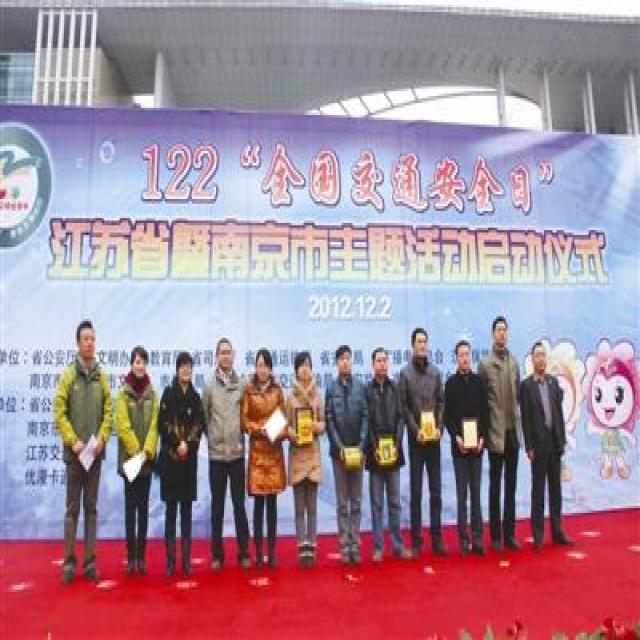non-fight: (58, 314, 109, 578), (150, 350, 205, 585), (517, 338, 571, 551), (440, 338, 493, 554), (360, 350, 410, 566), (240, 350, 286, 575)
